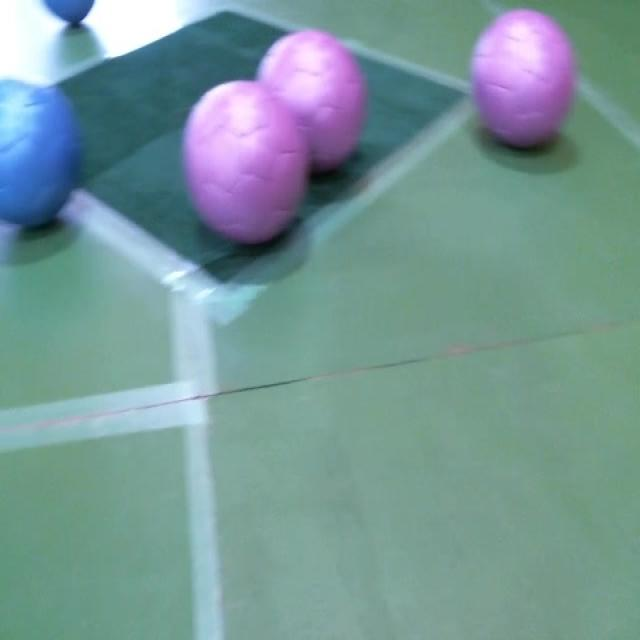blue_ball: (0, 78, 84, 226), (44, 0, 96, 26)
purple_ball: (184, 83, 309, 243), (253, 34, 368, 170), (471, 9, 578, 153)
